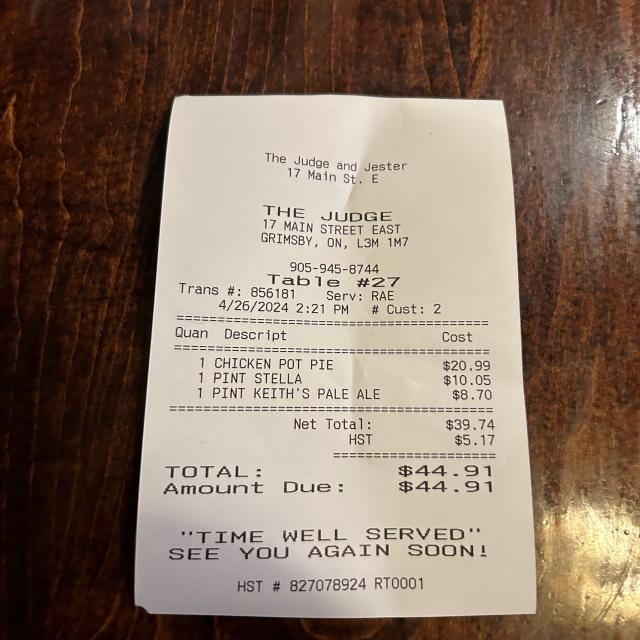item: (208, 352, 497, 374), (208, 369, 498, 388), (208, 386, 500, 404)
store_name: (256, 200, 402, 225)
total_amount: (154, 458, 500, 481)
transaction_date: (213, 296, 294, 316)
